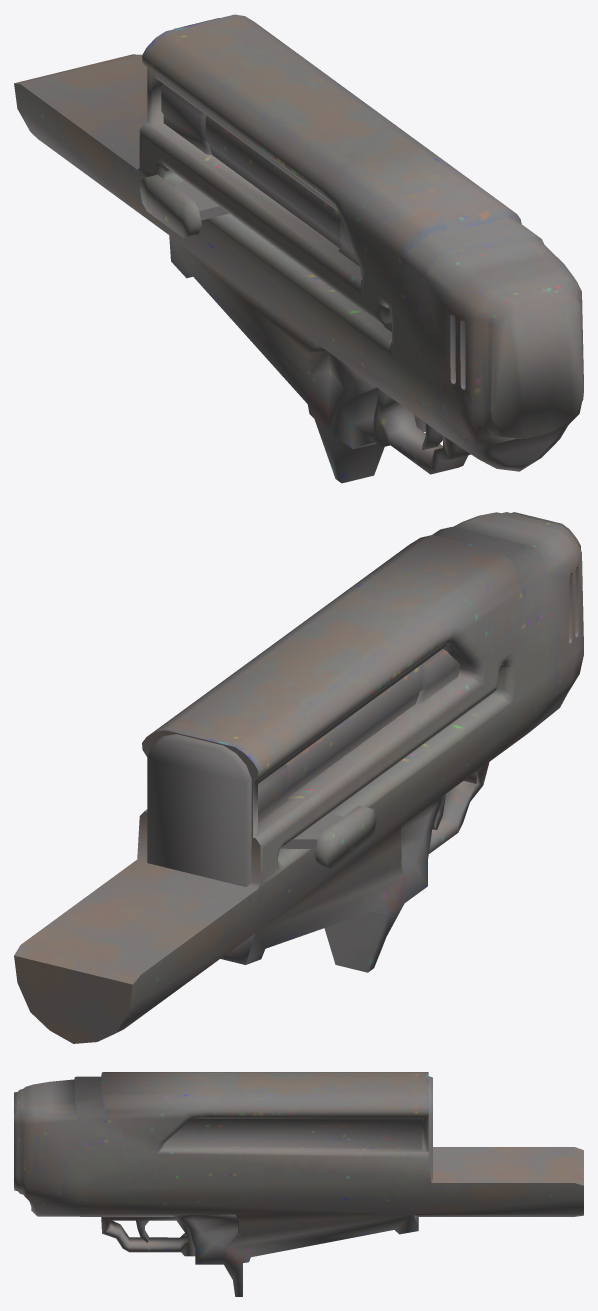
File: body5.obj
The picture shows the model from 3 angles, top to bottom: view 1: azimuth 30°, elevation 25°; view 2: azimuth 150°, elevation 25°; view 3: azimuth 270°, elevation 25°; orthographic projection. The views are drawn at different scales.
Parts seen in each view (by area): view 1: body5; view 2: body5; view 3: body5.
Part boxes in pixels (x1,y1,x2,y2): body5: [14, 14, 583, 483]; body5: [14, 512, 583, 1043]; body5: [14, 1072, 583, 1296].
Size of the model in its own units: 7.85 by 16.69 by 41.24.
